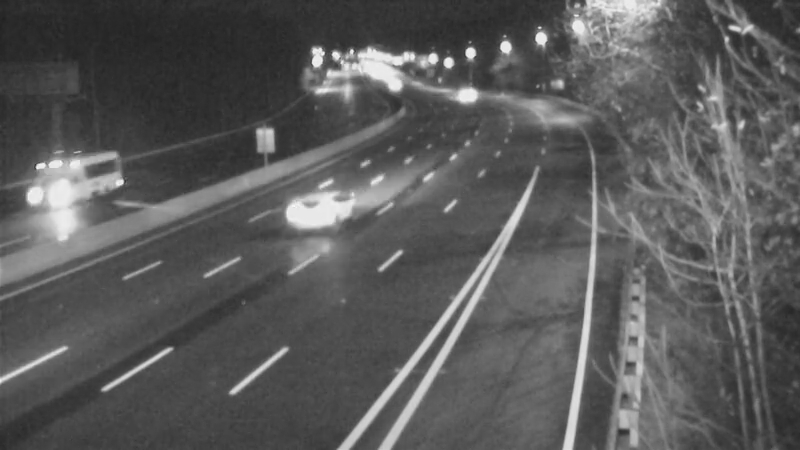vehicle: (262, 176, 342, 256), (18, 147, 98, 227), (440, 67, 490, 117)
